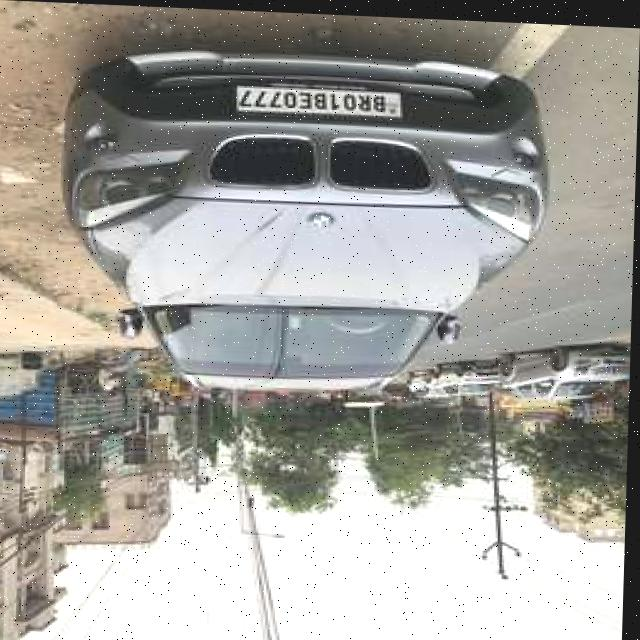plate: (236, 80, 400, 119)
